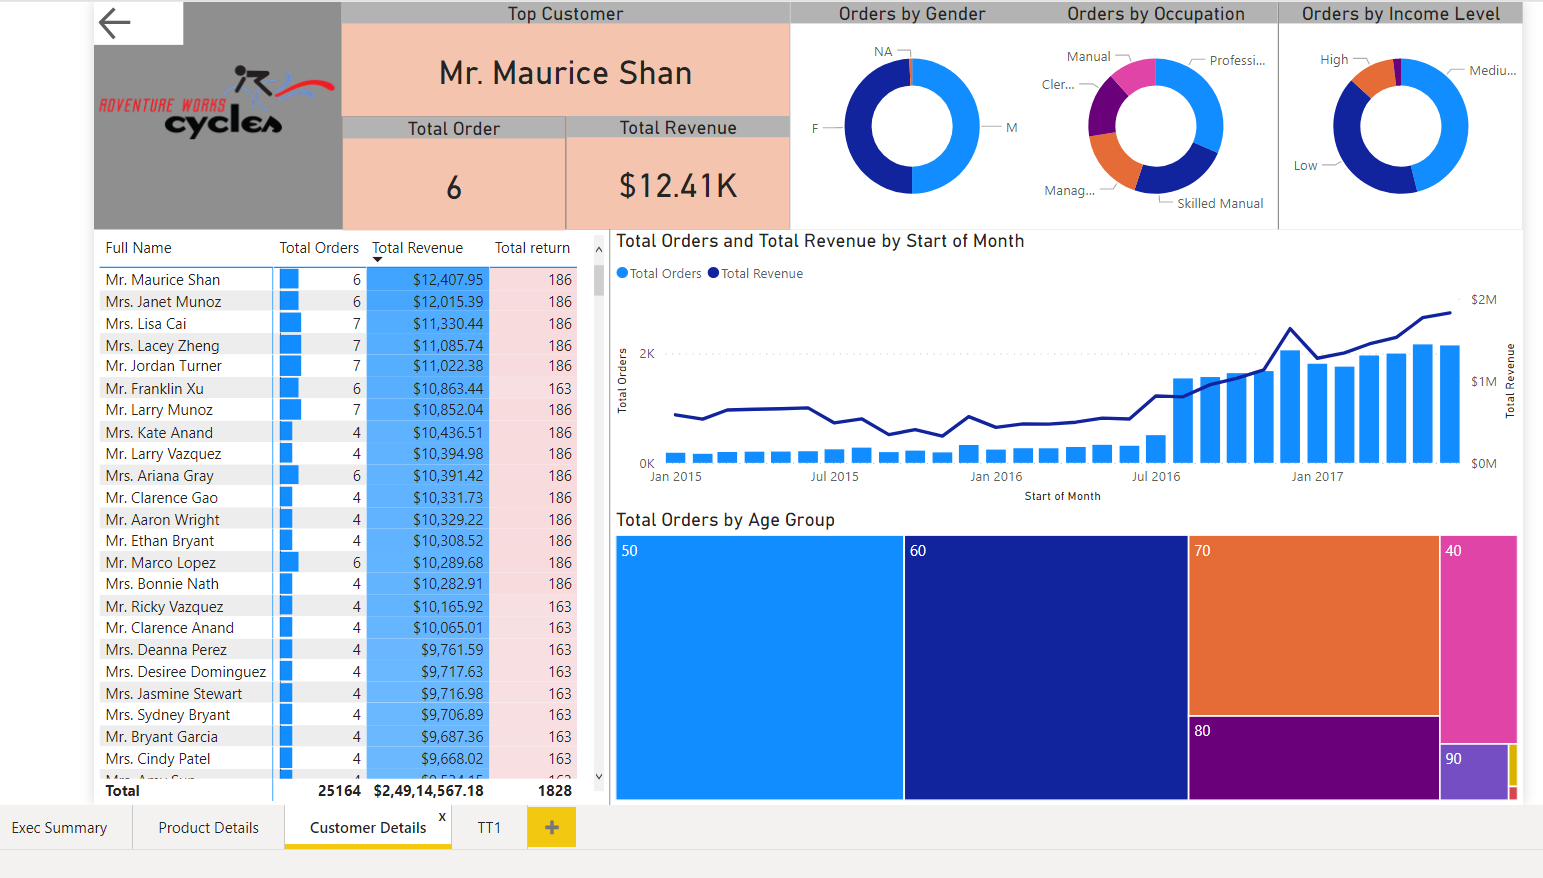

What the dashboard file says about the page in this screenshot:
{"tool":"powerbi","page":{"name":"Customer Details","canvas":[1280,720],"ordinal":2},"visuals":[{"type":"pivotTable","fields":{"Rows":["Customer_Lookup.Full Name"],"Values":["Sales Data.Total Orders","Sales Data.Total Revenue","Returns_Data.Total return"]},"box":[0,203.6,462,516.7],"z":0},{"type":"donutChart","title":"Orders by Gender","fields":{"Y":["Sales Data.Total Orders"],"Category":["Customer_Lookup.Gender"]},"box":[623.7,0,218.8,203.6],"z":1000},{"type":"donutChart","title":"Orders by Occupation","fields":{"Y":["Sales Data.Total Orders"],"Category":["Customer_Lookup.Occupation"]},"box":[842.5,0,218.8,203.6],"z":2000},{"type":"donutChart","title":"Orders by Income Level","fields":{"Y":["Sales Data.Total Orders"],"Category":["Customer_Lookup.IncomeLevel"]},"box":[1061.2,0,218.8,203.6],"z":3000},{"type":"image","box":[0,38.4,222.3,102.4],"z":4000},{"type":"treemap","fields":{"Values":["Sales Data.Total Orders"],"Group":["Customer_Lookup.Age Group"]},"box":[462,453.8,818,266.5],"z":5000},{"type":"lineStackedColumnComboChart","fields":{"Y2":["Sales Data.Total Revenue"],"Y":["Sales Data.Total Orders"],"Category":["Calendar_Lookup.Start of Month"]},"box":[462,203.6,818,250.2],"z":6000},{"type":"card","title":"Top Customer","fields":{"Values":["Min(Customer_Lookup.Full Name)"]},"box":[222.3,0,401.5,102.4],"z":7000},{"type":"card","title":"Total Revenue","fields":{"Values":["Sales Data.Total Revenue"]},"box":[423.6,102.4,200.1,101.2],"z":8000},{"type":"card","title":"Total Order","fields":{"Values":["Sales Data.Total Orders"]},"box":[222.5,103,199.1,101.6],"z":9000},{"type":"actionButton","box":[0,0,80.3,38.4],"z":10000}]}

Visuals, with their boxes on the page's 1280x720 design canvas (x1, y1, x2, y2). These are canvas units, not pixel positions in the 1543x878 screenshot, which may show the page scaled, cropped or inside an application window:
pivotTable - Customer_Lookup.Full Name x Sales Data.Total Orders: detection(0, 204, 462, 720)
"Orders by Gender" donutChart: detection(624, 0, 842, 204)
"Orders by Occupation" donutChart: detection(842, 0, 1061, 204)
"Orders by Income Level" donutChart: detection(1061, 0, 1280, 204)
image: detection(0, 38, 222, 141)
treemap - Sales Data.Total Orders x Customer_Lookup.Age Group: detection(462, 454, 1280, 720)
lineStackedColumnComboChart - Sales Data.Total Revenue x Sales Data.Total Orders: detection(462, 204, 1280, 454)
"Top Customer" card: detection(222, 0, 624, 102)
"Total Revenue" card: detection(424, 102, 624, 204)
"Total Order" card: detection(222, 103, 422, 205)
actionButton: detection(0, 0, 80, 38)
